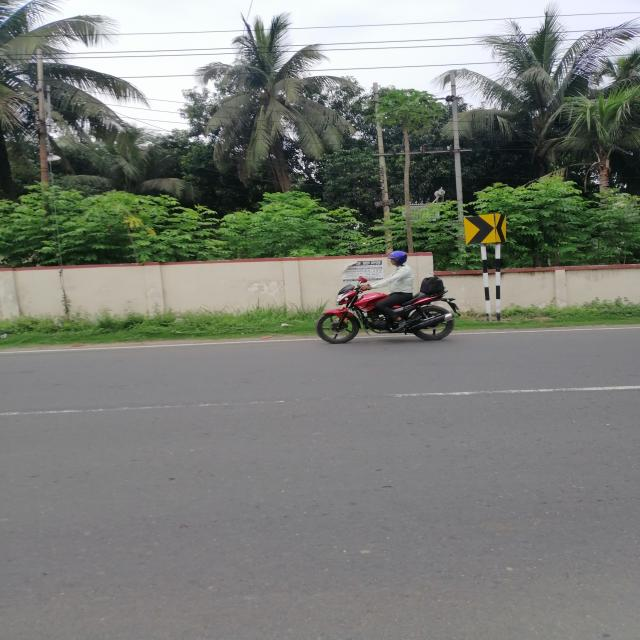Motorbike: (315, 279, 463, 352)
